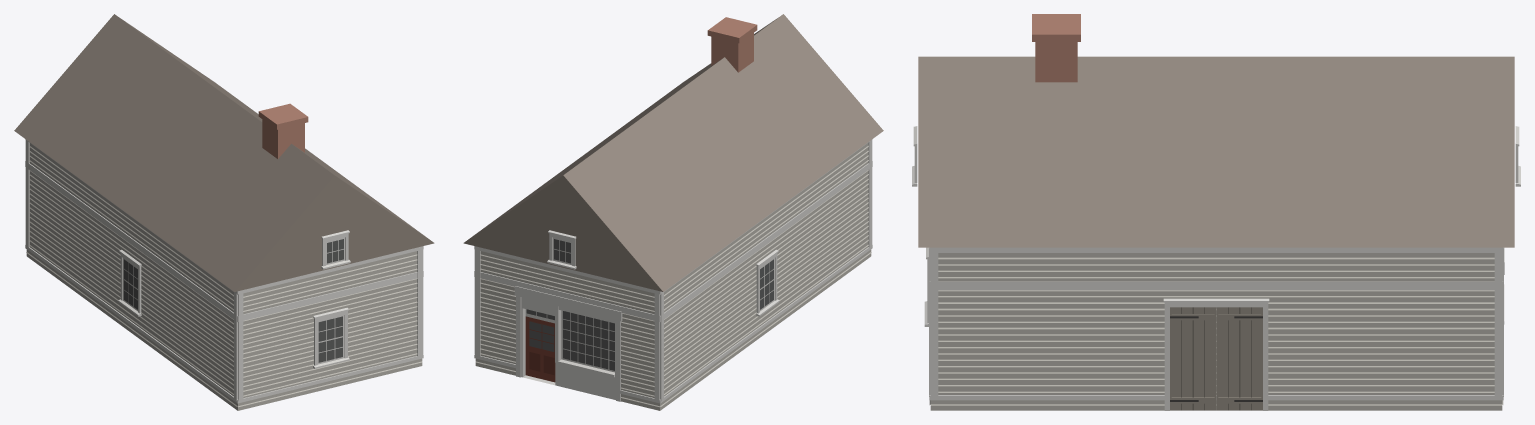
Rendered from recon_1835_core_c2_028__inferred_1835.glb.
3 renders of one model, left to right at view 1: azimuth 30°, elevation 25°; view 2: azimuth 150°, elevation 25°; view 3: azimuth 270°, elevation 25°, orthographic. The views are drawn at different scales.
Visible parts, largest first — view 1: recon_1835_core_c2_028__inferred_1835; view 2: recon_1835_core_c2_028__inferred_1835; view 3: recon_1835_core_c2_028__inferred_1835.
Part boxes in pixels (bbox=[...]): recon_1835_core_c2_028__inferred_1835: bbox=[14, 14, 434, 410]; recon_1835_core_c2_028__inferred_1835: bbox=[463, 14, 883, 410]; recon_1835_core_c2_028__inferred_1835: bbox=[912, 14, 1520, 410].
Bounding box in the file's own units: 6.24 × 7.16 × 12.15.
